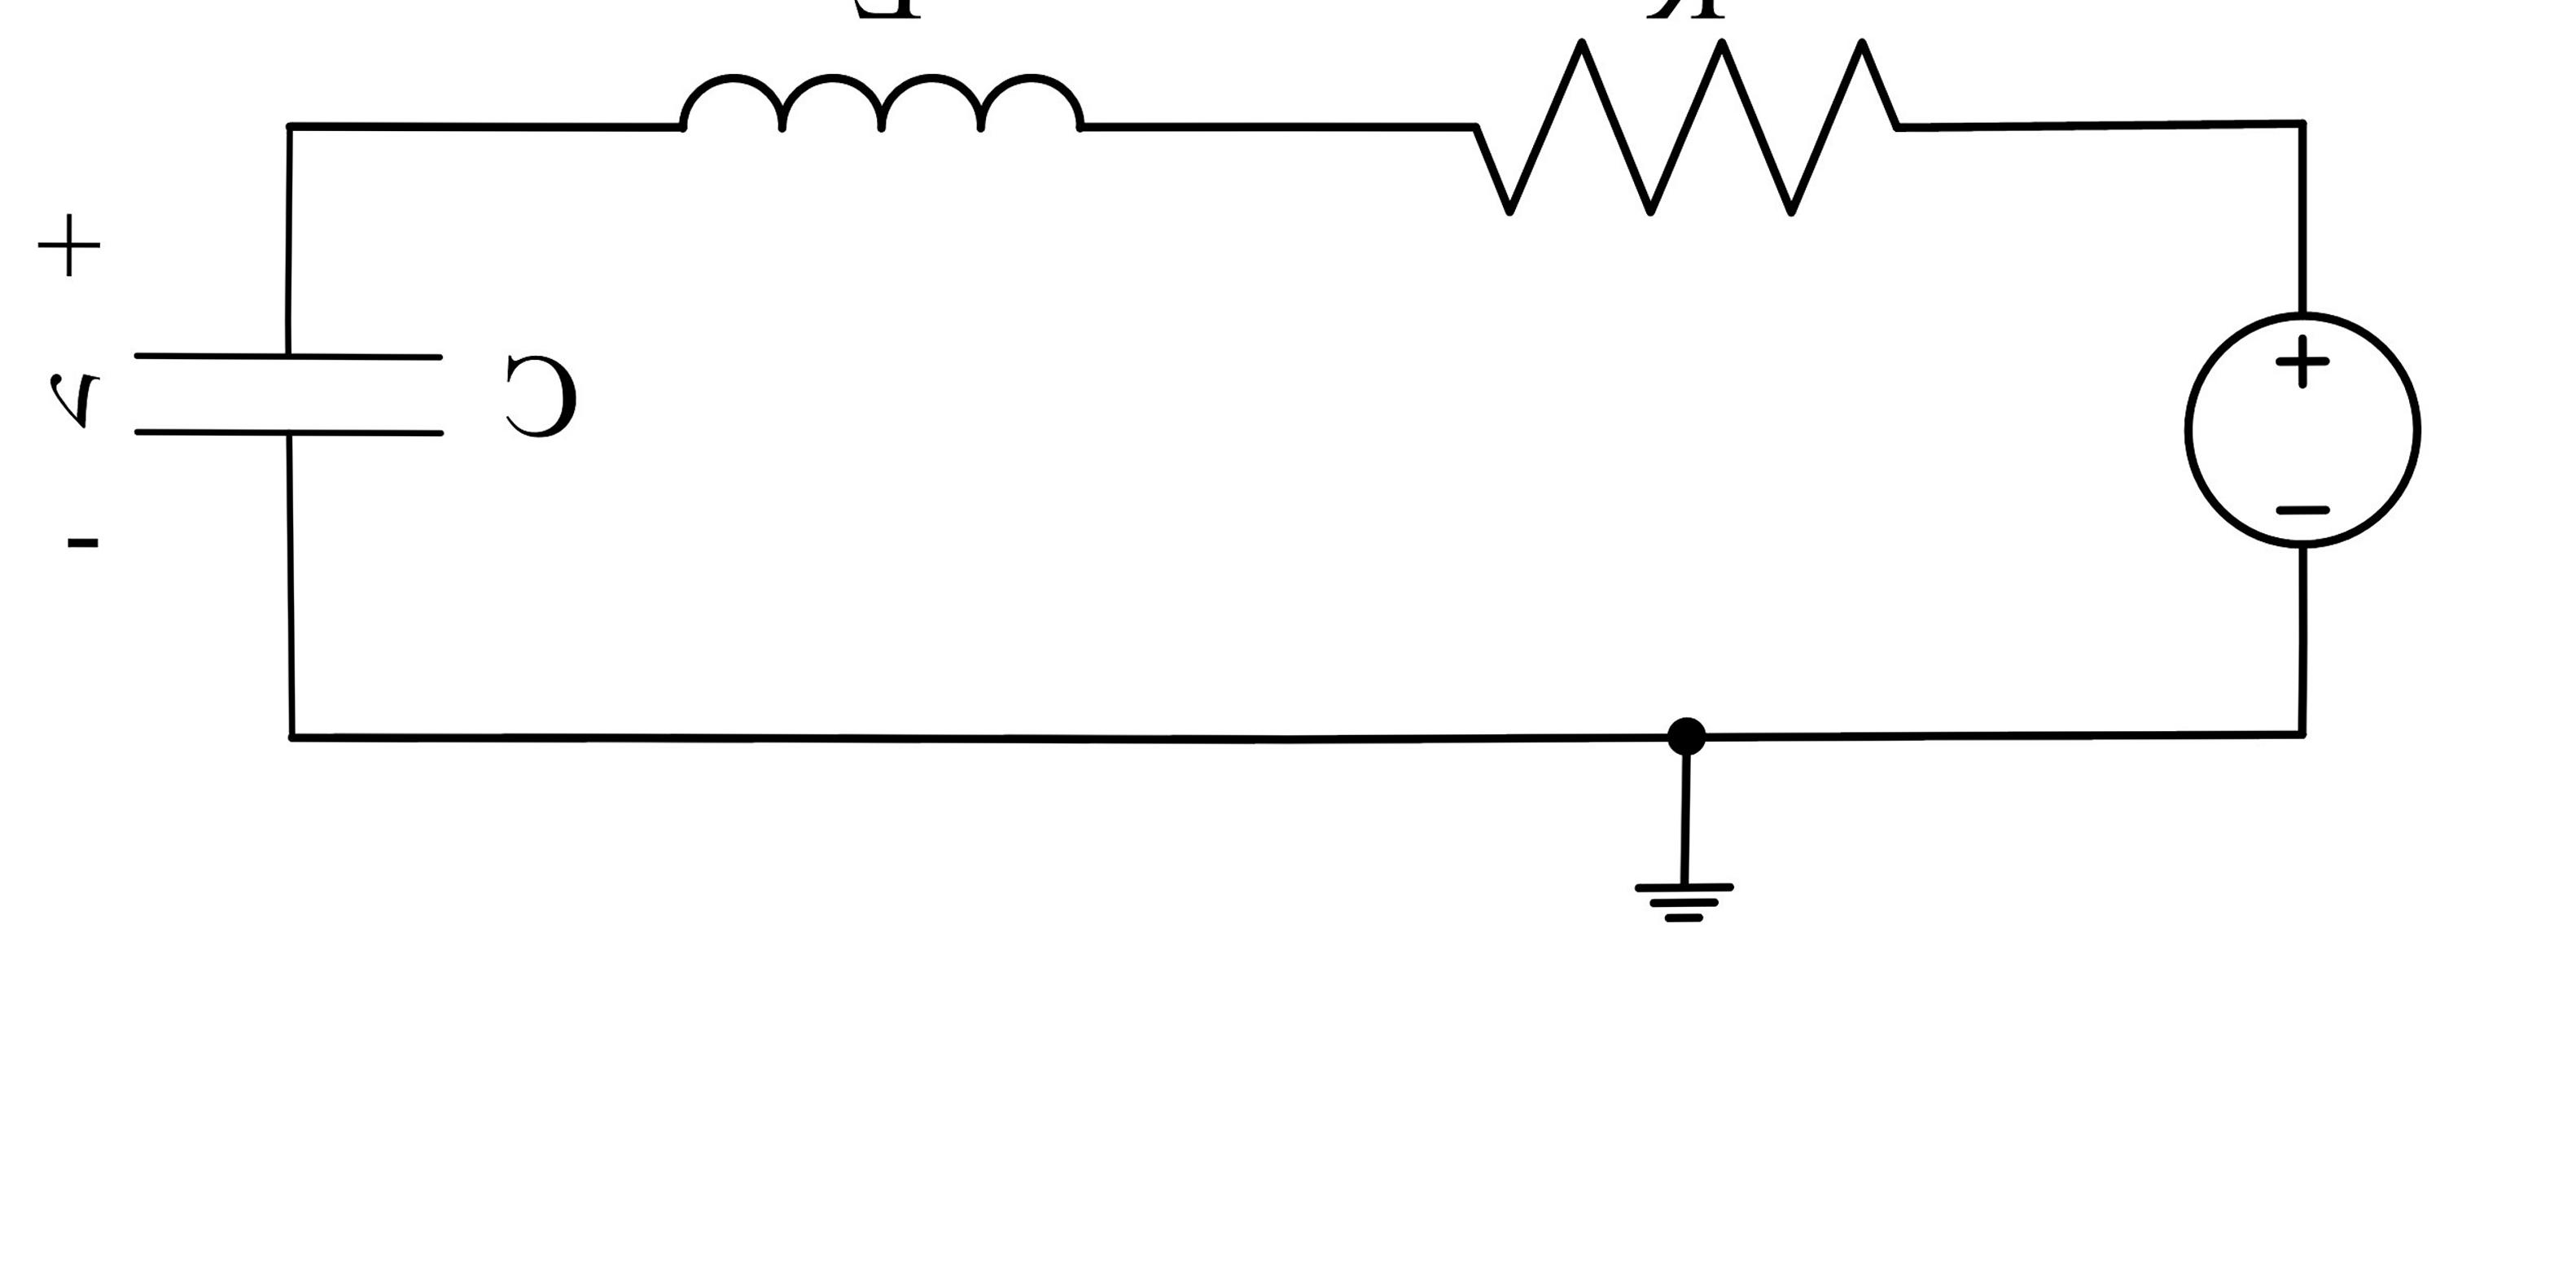Battery: (2118, 260, 2477, 591)
